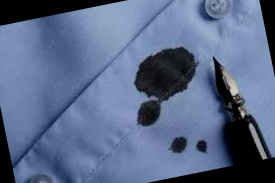ink: (131, 44, 202, 106), (134, 105, 161, 127), (170, 137, 188, 153), (196, 139, 208, 153)
